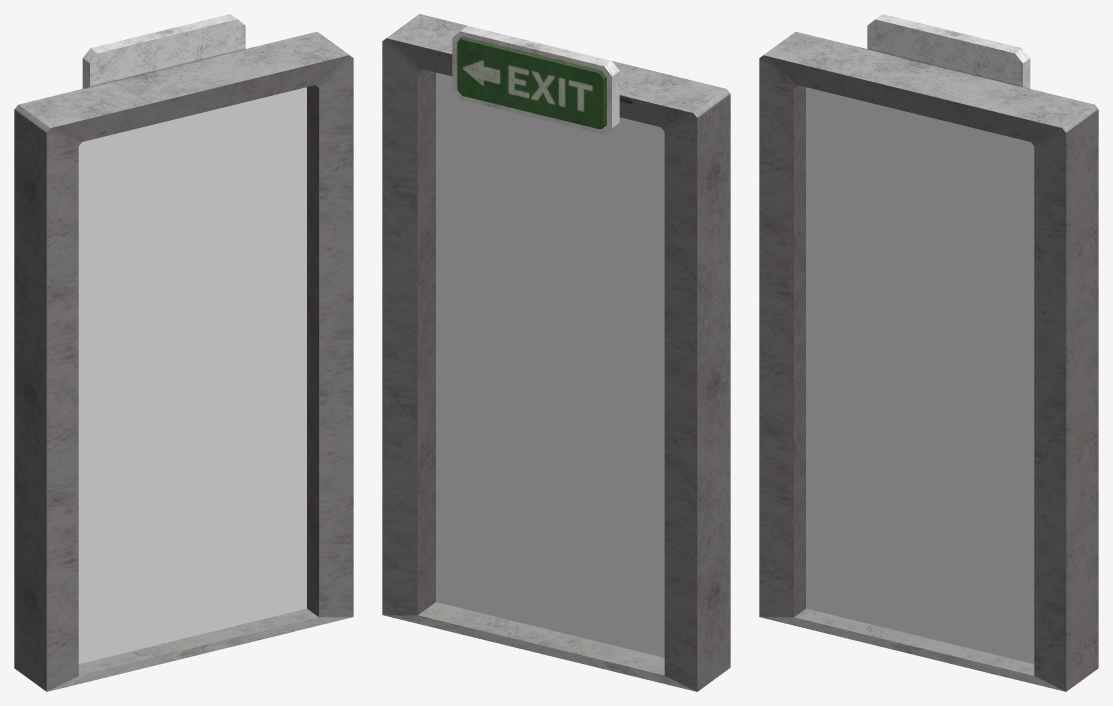
Rendered from VisualNovel_Door.fbx.
3 views of the same model, side by side, from view 1: azimuth 30°, elevation 25°; view 2: azimuth 150°, elevation 25°; view 3: azimuth 330°, elevation 25° (orthographic). The views are drawn at different scales.
Visible parts, largest first — view 1: Door; view 2: Door; view 3: Door.
Boxes of the visible parts, x1,y1,x2,y2 form: Door: [14, 14, 353, 691]; Door: [382, 14, 730, 691]; Door: [759, 14, 1098, 691].
Bounding box in the file's own units: 449 × 831 × 105.
